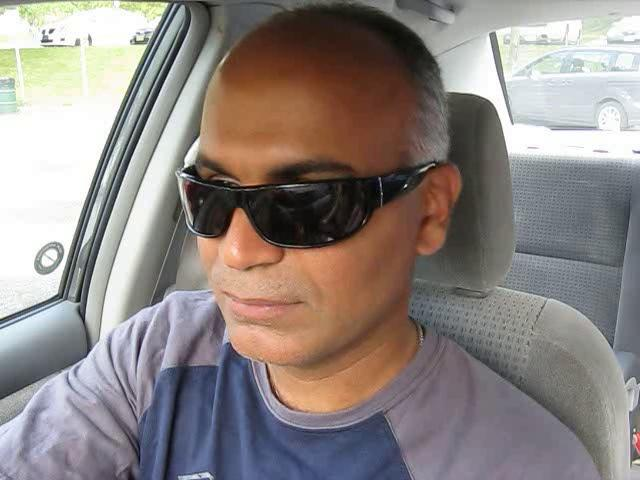no_yawn: (204, 276, 316, 333)
